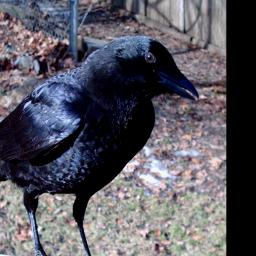Crow: (0, 35, 200, 256)
